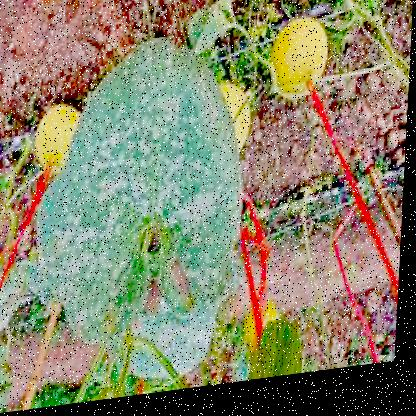PowderyMildew: (78, 74, 232, 239)
